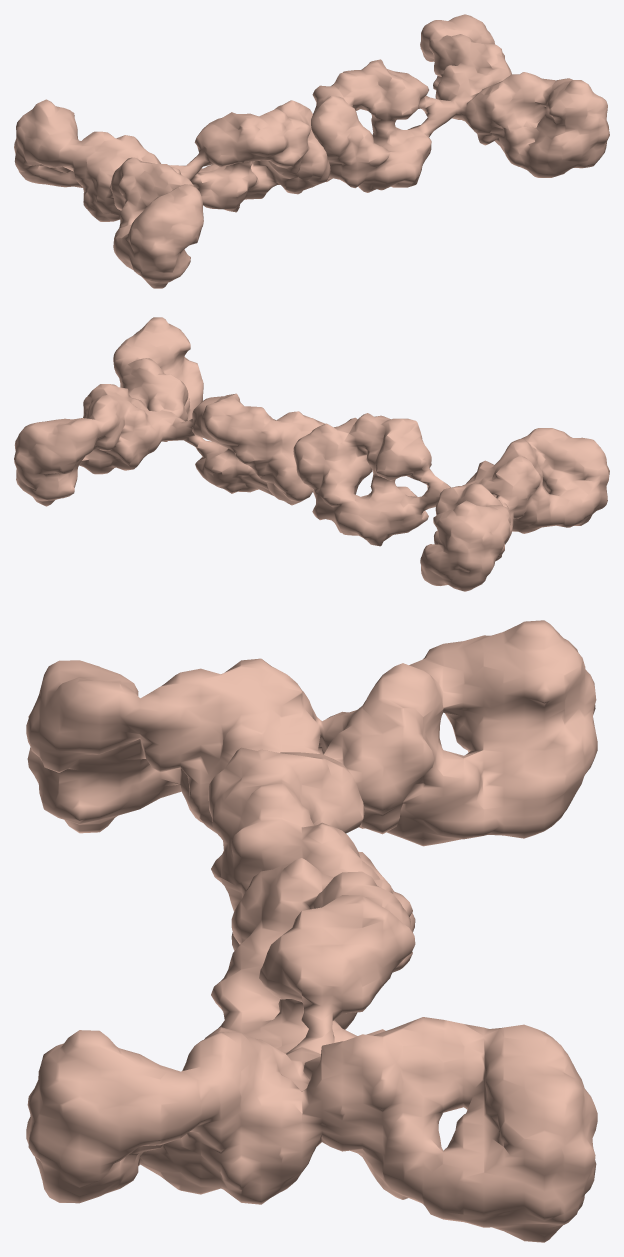
Rendered from IgA_dimer.dae.
3 views of the same model, one above another, from view 1: azimuth 30°, elevation 25°; view 2: azimuth 150°, elevation 25°; view 3: azimuth 270°, elevation 25° (orthographic). The views are drawn at different scales.
Visible parts, largest first — view 1: CoarseMS_igg_dim (×2); view 2: CoarseMS_igg_dim (×2); view 3: CoarseMS_igg_dim (×2).
Part boxes in pixels (left/top/right/bottom): CoarseMS_igg_dim (×2): left=14, top=14, right=609, bottom=288; CoarseMS_igg_dim (×2): left=14, top=317, right=609, bottom=591; CoarseMS_igg_dim (×2): left=26, top=620, right=597, bottom=1242.
Bounding box in the file's own units: 285 × 60.38 × 147.
